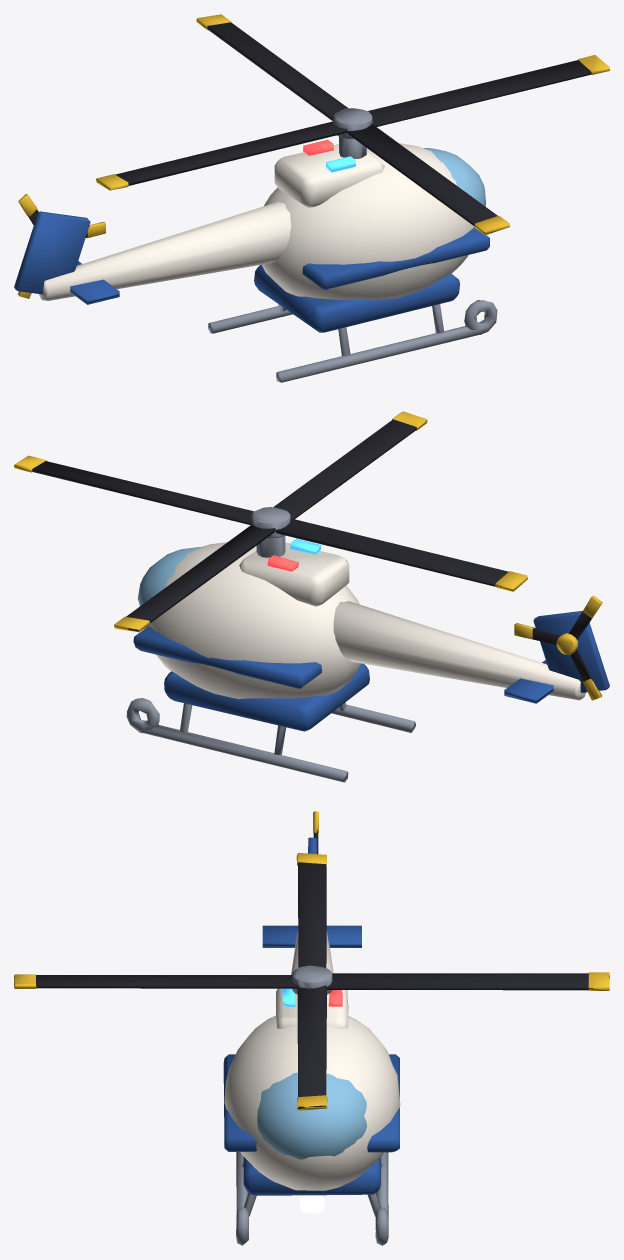
The model's file is heli.glb.
The picture shows the model from 3 angles, top to bottom: view 1: azimuth 30°, elevation 25°; view 2: azimuth 150°, elevation 25°; view 3: azimuth 270°, elevation 25°; orthographic projection. The views are drawn at different scales.
Visible parts, largest first — view 1: heli.005, rotor.005, tail_rotor.005; view 2: heli.005, rotor.005, tail_rotor.005; view 3: heli.005, rotor.005.
Boxes of the visible parts, <box> form: heli.005: <box>14,136,497,382</box>; rotor.005: <box>96,14,609,235</box>; tail_rotor.005: <box>18,194,105,298</box>; heli.005: <box>126,535,609,782</box>; rotor.005: <box>14,411,527,632</box>; tail_rotor.005: <box>514,595,602,700</box>; heli.005: <box>223,837,400,1245</box>; rotor.005: <box>14,852,609,1110</box>.
Bounding box in the file's own units: 7.53 × 2.65 × 6.4.
Materials: 1 (1 with a texture image).
